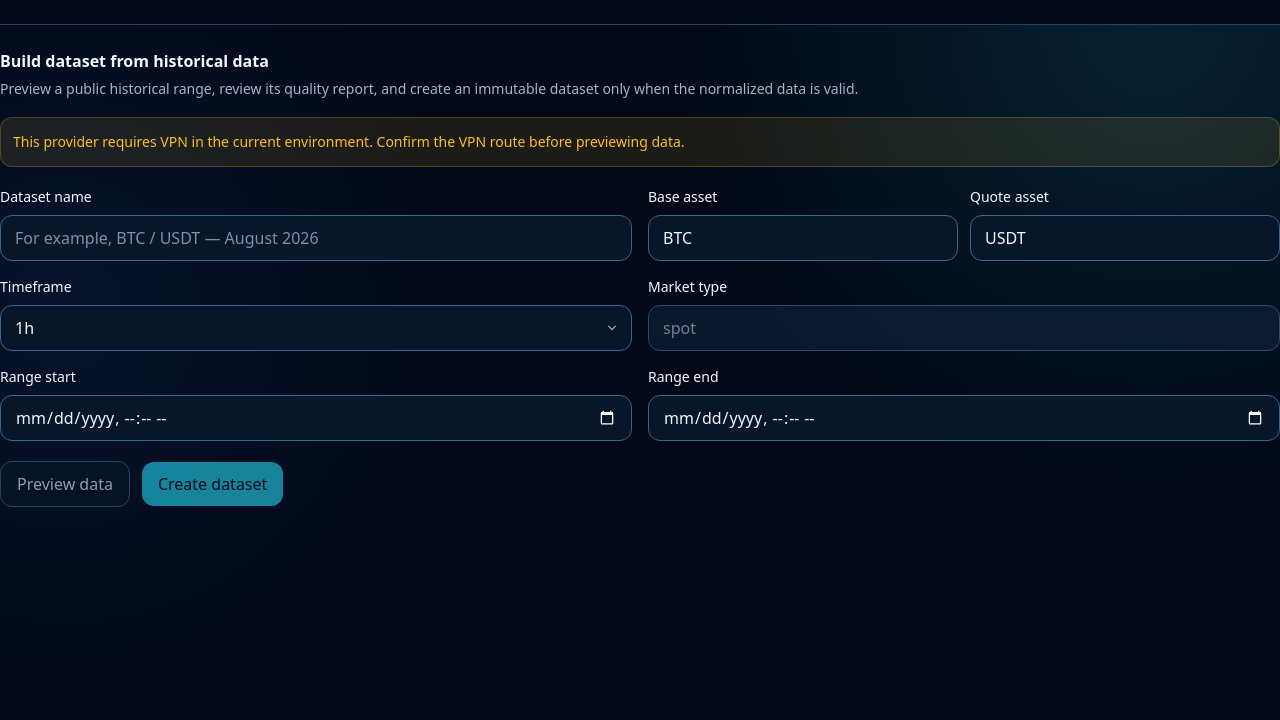
Test: HistoricalDatasetImportForm › shows quality issues and keeps import disabled when preview is invalid
Step 1. Type "BTC August sample" into the field labelled "Dataset name" → (316, 238), box 0,215 -> 632,261
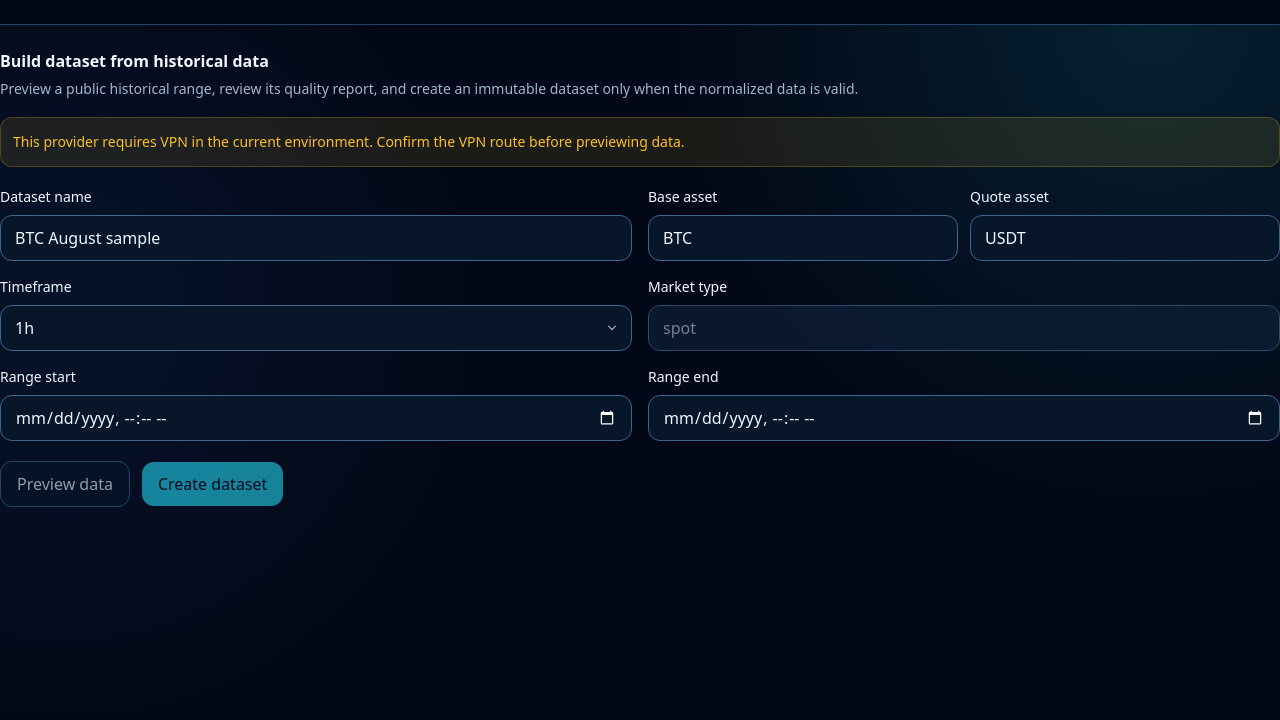
Step 2. Type "2026-08-20T00:00" into the field labelled "Range start" → (316, 418), box 0,395 -> 632,441
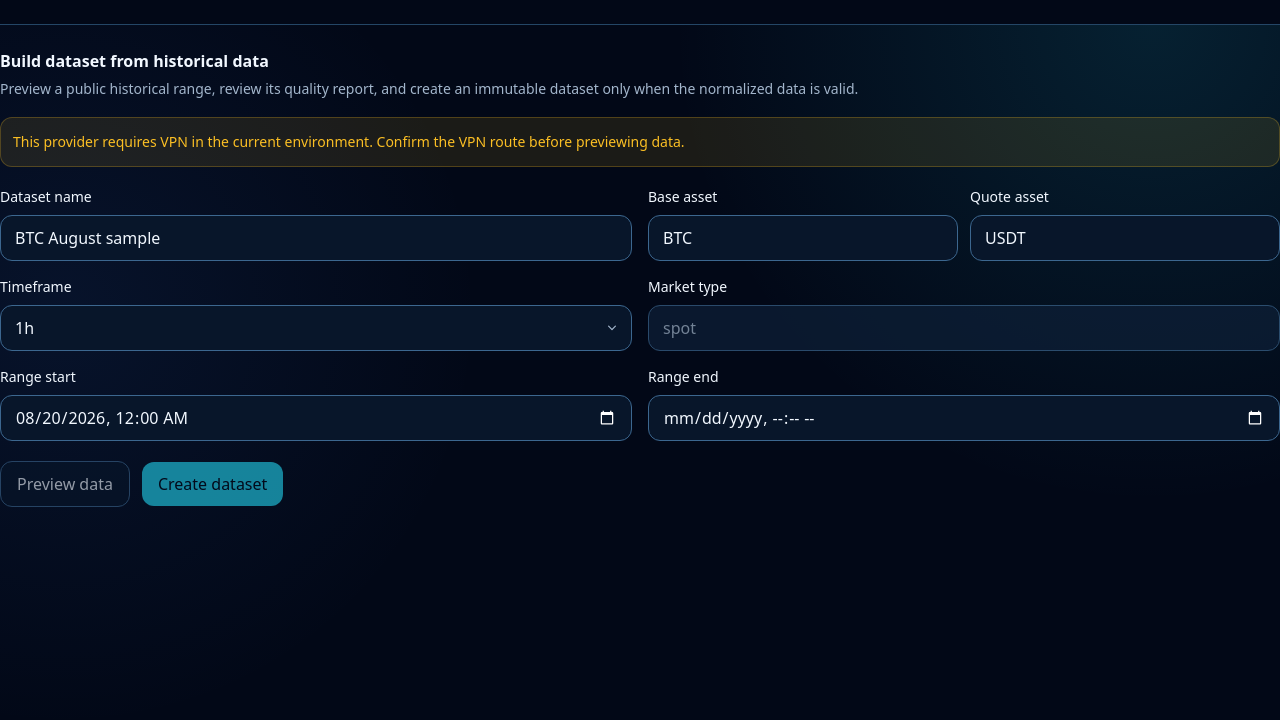
Step 3. Type "2026-08-21T00:00" into the field labelled "Range end" → (964, 418), box 648,395 -> 1279,441
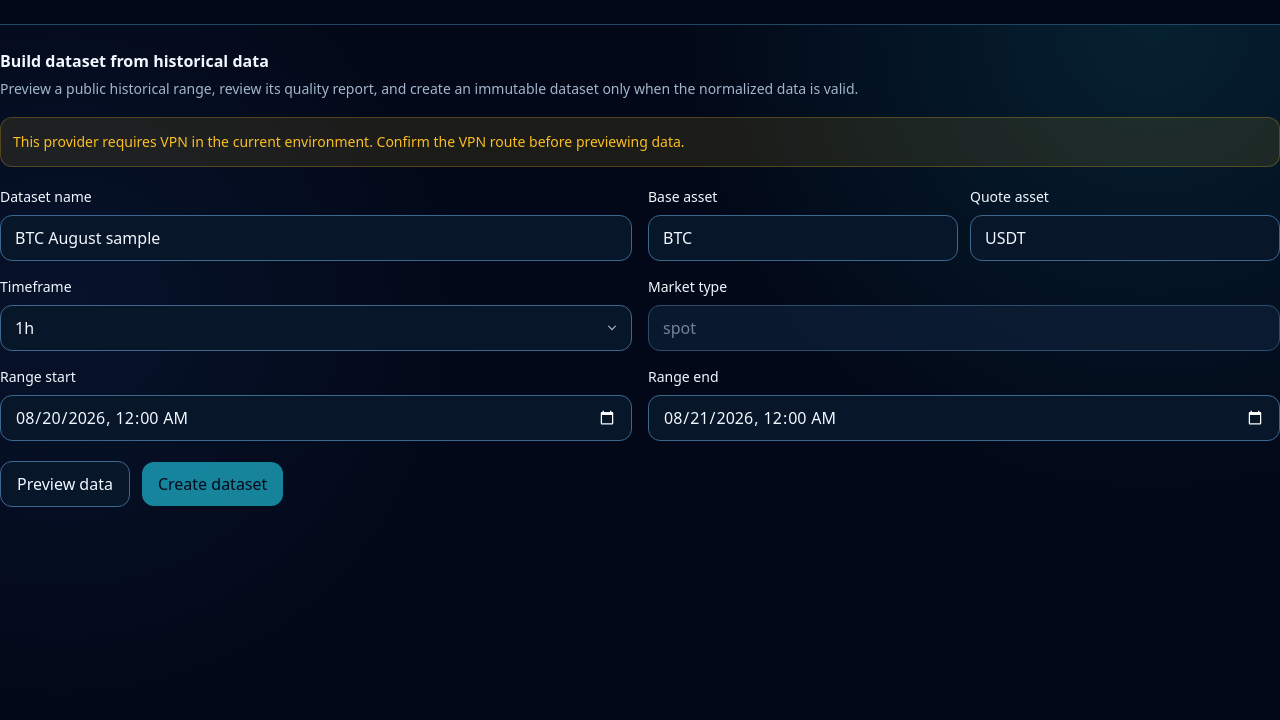
Step 4. Click the button "Preview data" → (65, 484), box 0,461 -> 130,507
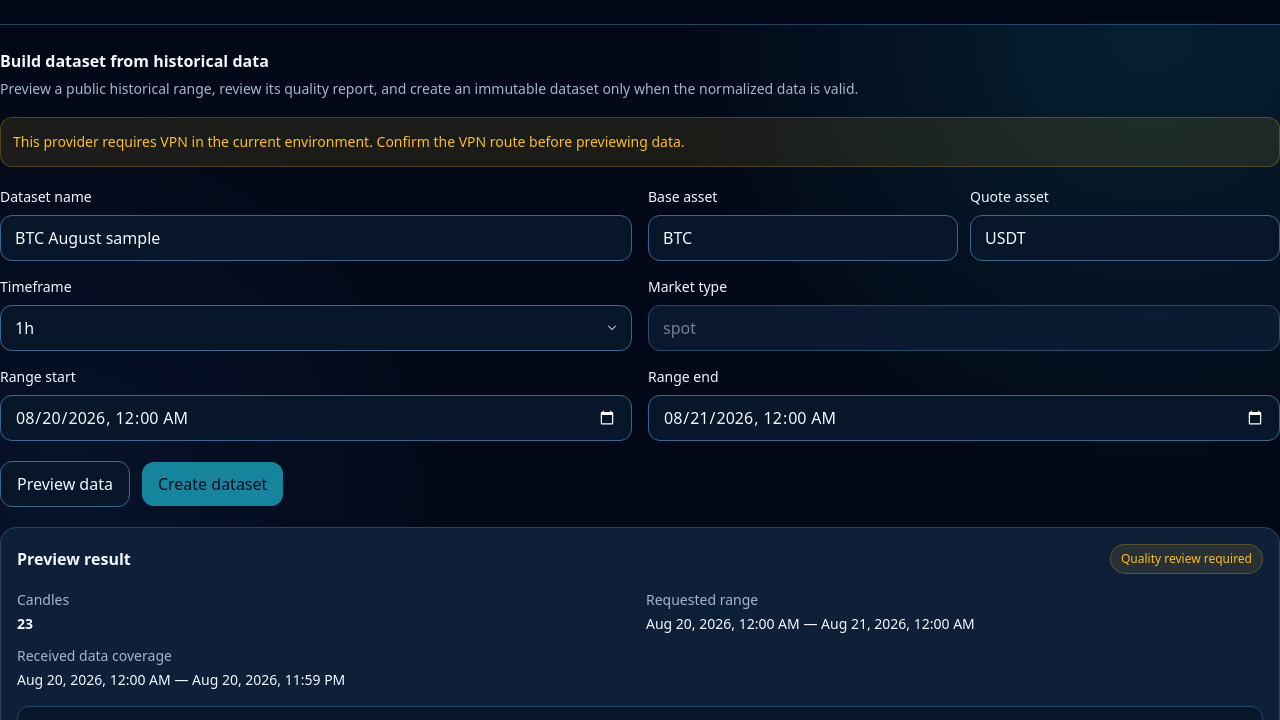
Expected: the button "Create dataset" is disabled, 142,462 -> 283,506
Expected: the text "Quality review required" is shown, 1110,544 -> 1263,574
